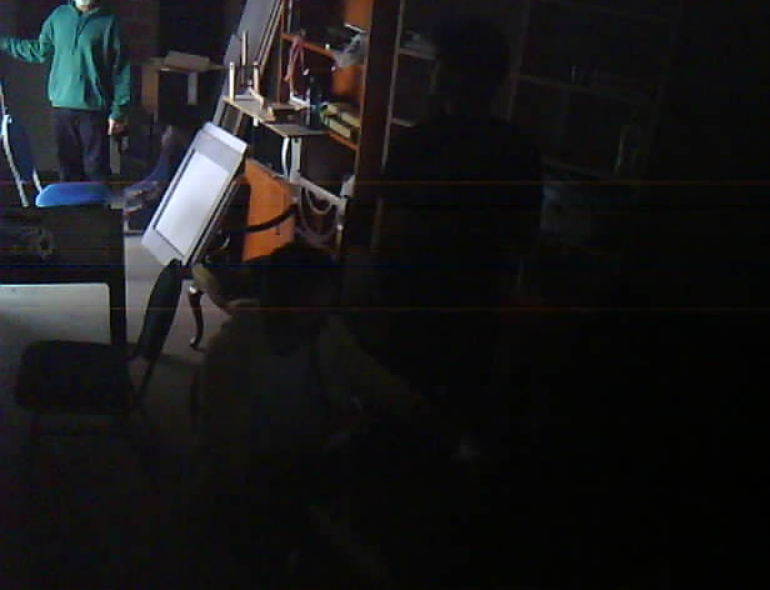person: (172, 235, 477, 586), (366, 0, 541, 421), (0, 0, 146, 209)
